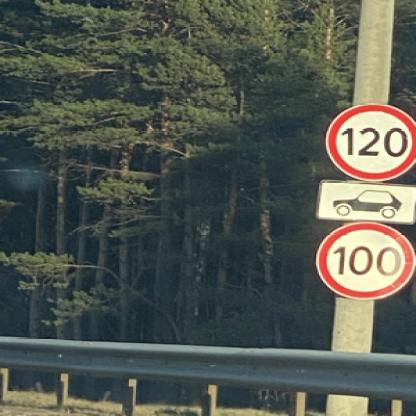Speed Limit 100: (318, 221, 416, 299)
Speed Limit 120: (327, 102, 416, 180)
